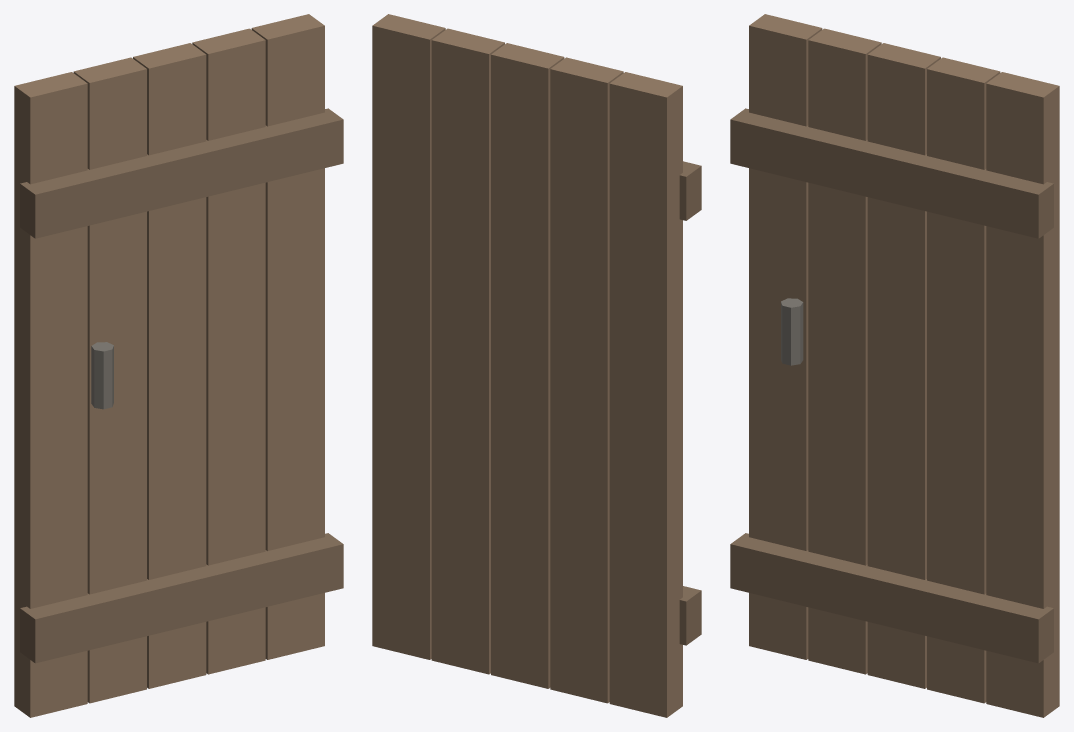
Rendered from wooden_door.glb.
3 renders of one model, left to right at view 1: azimuth 30°, elevation 25°; view 2: azimuth 150°, elevation 25°; view 3: azimuth 330°, elevation 25°, orthographic.
Parts seen in each view (by area): view 1: part_plank_0, part_plank_2, part_plank_3, part_plank_4, part_plank_1, part_brace_0, part_brace_1, part_handle; view 2: part_plank_0, part_plank_3, part_plank_2, part_plank_1, part_plank_4, part_brace_1, part_brace_0; view 3: part_plank_4, part_plank_1, part_plank_2, part_plank_3, part_plank_0, part_brace_0, part_brace_1, part_handle.
Boxes of the visible parts, bbox=[...] form: part_plank_0: bbox=[14, 72, 87, 717]; part_plank_2: bbox=[133, 43, 206, 688]; part_plank_3: bbox=[192, 28, 265, 674]; part_plank_4: bbox=[251, 14, 324, 659]; part_plank_1: bbox=[73, 57, 146, 703]; part_brace_0: bbox=[20, 533, 343, 663]; part_brace_1: bbox=[20, 108, 343, 238]; part_handle: bbox=[91, 342, 113, 409]; part_plank_0: bbox=[609, 72, 682, 717]; part_plank_3: bbox=[431, 28, 504, 674]; part_plank_2: bbox=[491, 43, 564, 688]; part_plank_1: bbox=[550, 57, 623, 703]; part_plank_4: bbox=[372, 14, 445, 659]; part_brace_1: bbox=[679, 161, 701, 220]; part_brace_0: bbox=[679, 586, 701, 645]; part_plank_4: bbox=[986, 72, 1059, 717]; part_plank_1: bbox=[808, 28, 881, 674]; part_plank_2: bbox=[867, 43, 940, 688]; part_plank_3: bbox=[927, 57, 1000, 703]; part_plank_0: bbox=[749, 14, 822, 659]; part_brace_0: bbox=[730, 533, 1053, 663]; part_brace_1: bbox=[730, 108, 1053, 238]; part_handle: bbox=[781, 298, 803, 365].
Size of the model in its own units: 1.17 by 2.25 by 0.2367.
